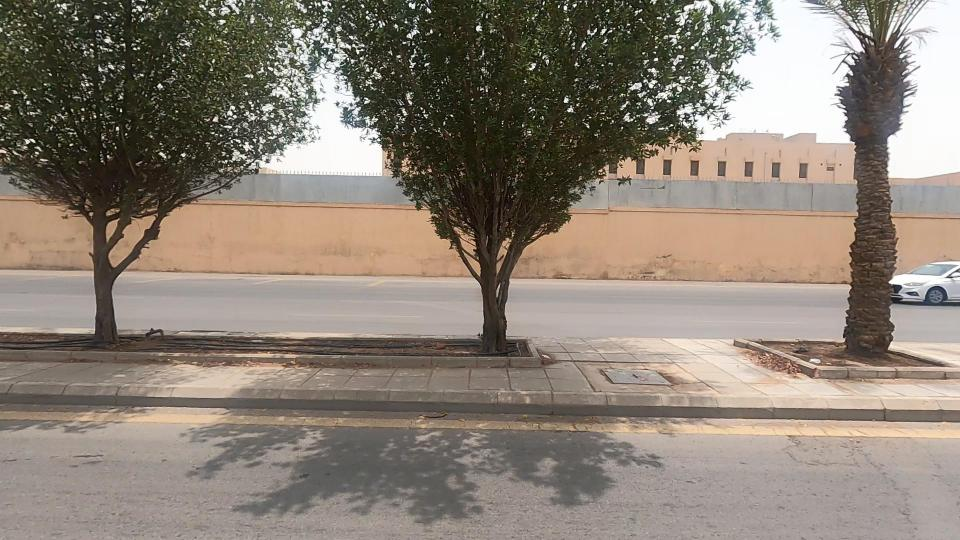GARBAGE: (174, 314, 477, 378)
